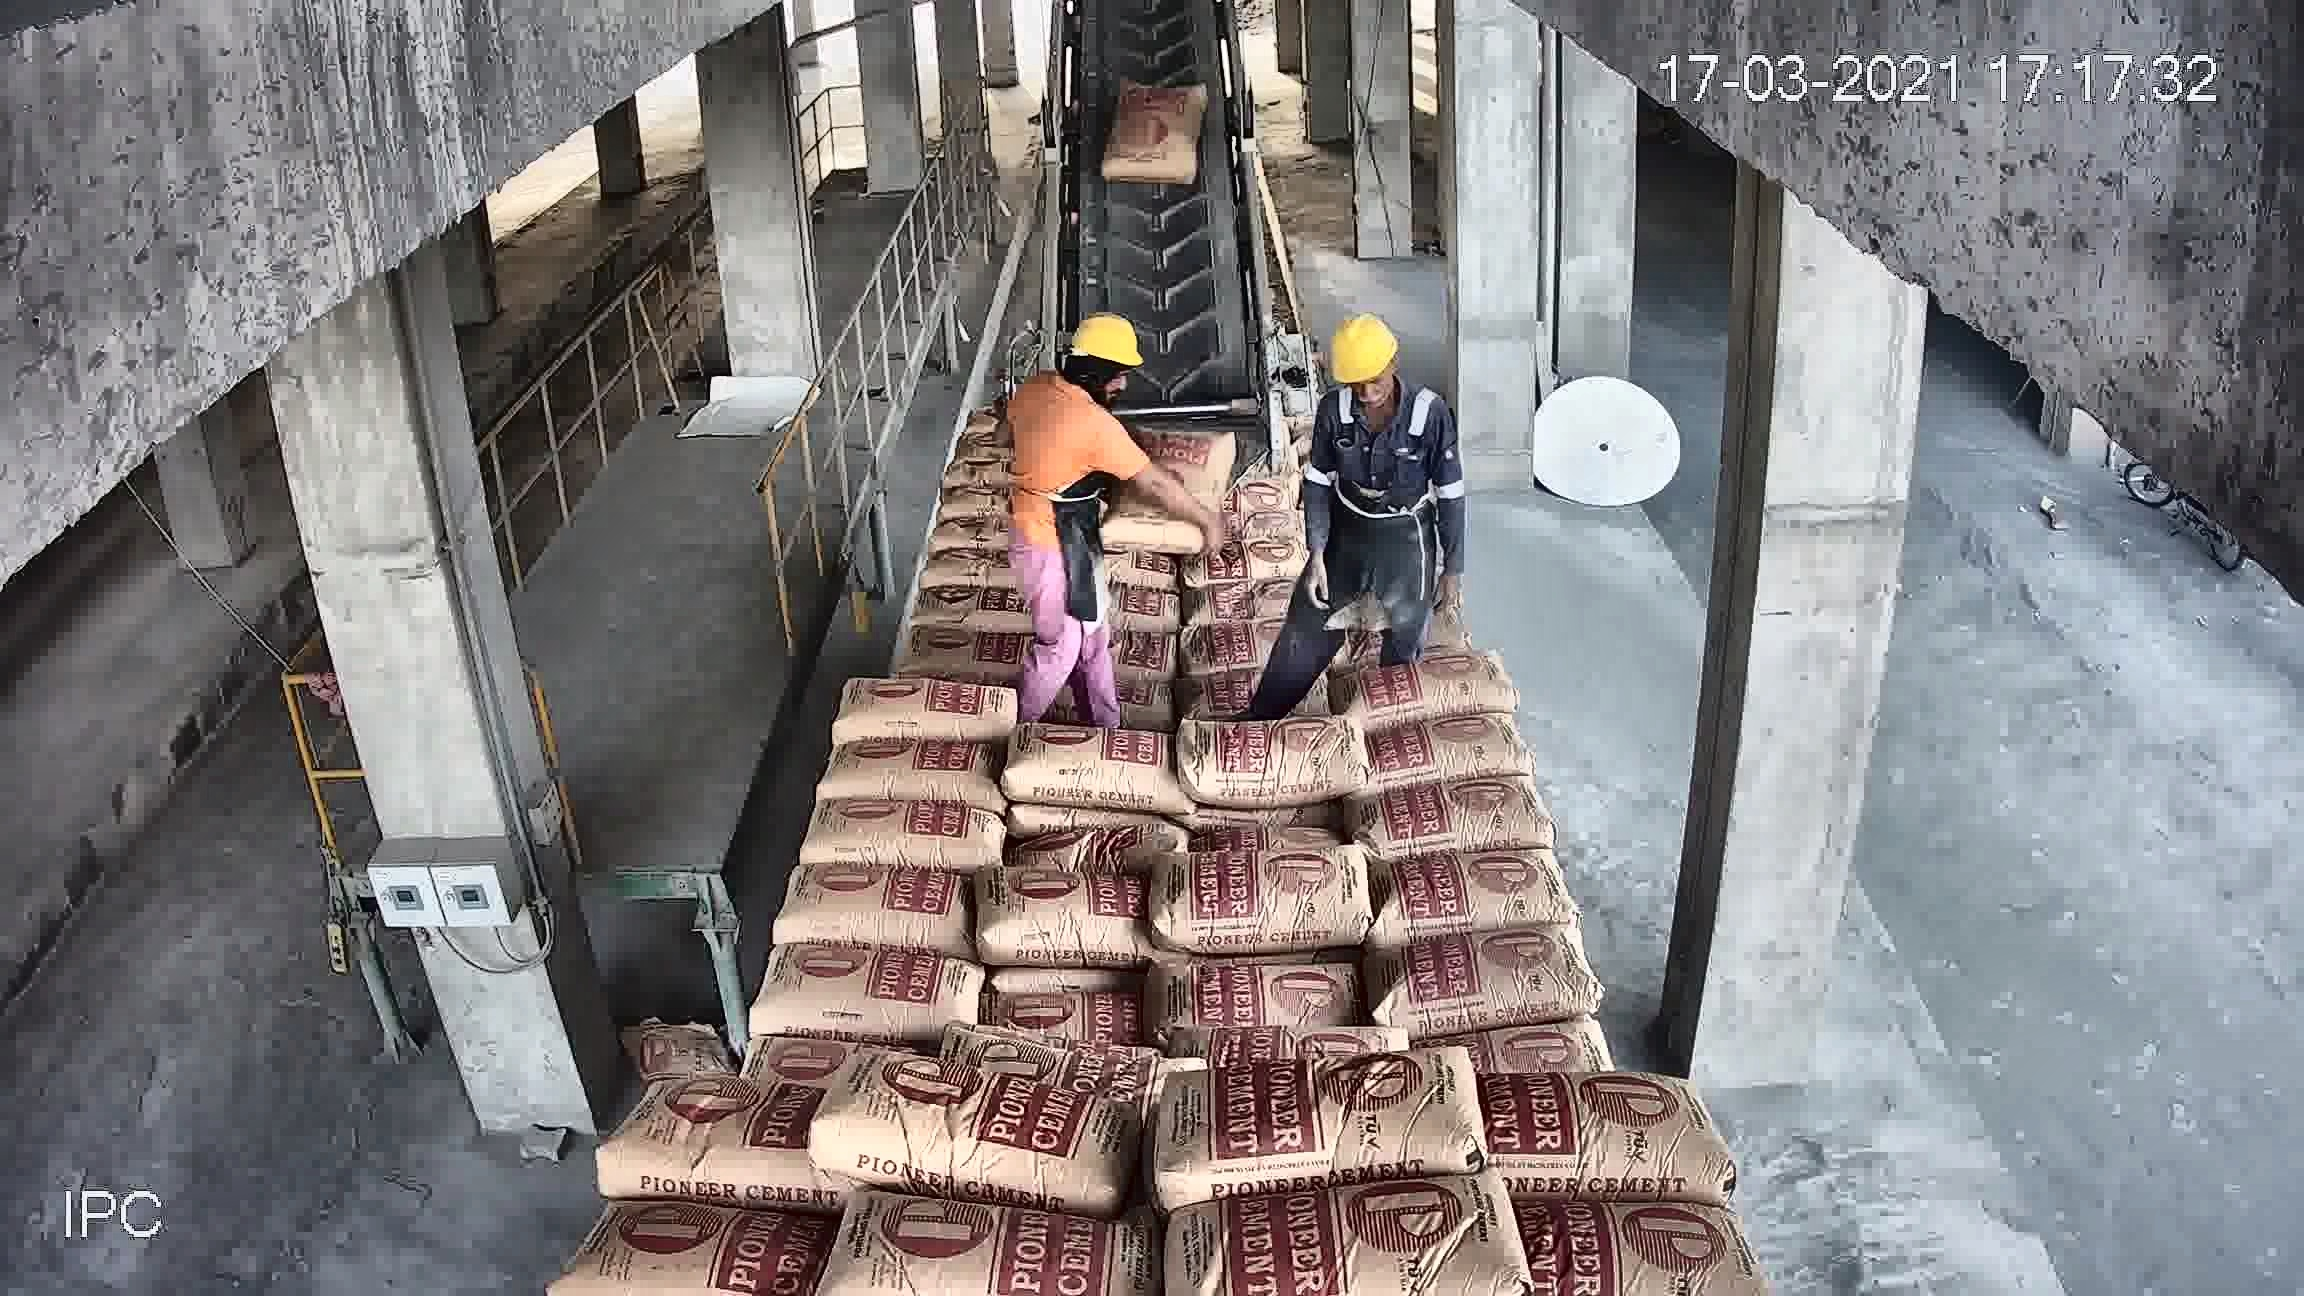bag: (1100, 78, 1203, 188)
bag_h: (791, 1059, 1130, 1207), (1188, 1051, 1516, 1204), (1171, 1171, 1511, 1293), (1472, 1055, 1719, 1215), (828, 1188, 1161, 1296), (1361, 915, 1609, 1040), (744, 934, 992, 1044), (1497, 1185, 1744, 1294), (568, 1196, 836, 1296), (604, 1084, 810, 1209), (1358, 843, 1579, 953), (1157, 847, 1378, 946), (978, 856, 1154, 980), (764, 864, 983, 956), (1176, 715, 1369, 815), (1152, 965, 1364, 1051), (1340, 775, 1540, 862), (1370, 703, 1540, 801), (1331, 649, 1522, 733), (815, 731, 1014, 809), (1008, 726, 1177, 815), (801, 802, 1002, 877), (1407, 1022, 1614, 1089), (840, 676, 1022, 744), (1005, 983, 1150, 1052), (886, 623, 1032, 684), (908, 573, 1032, 635), (1177, 538, 1302, 597), (1182, 578, 1294, 631), (913, 543, 1024, 590), (1177, 635, 1272, 684), (1097, 578, 1174, 628), (930, 476, 1013, 524), (932, 505, 1010, 554)
bag_v: (1097, 424, 1233, 557)
belt: (1046, 33, 1261, 481)
